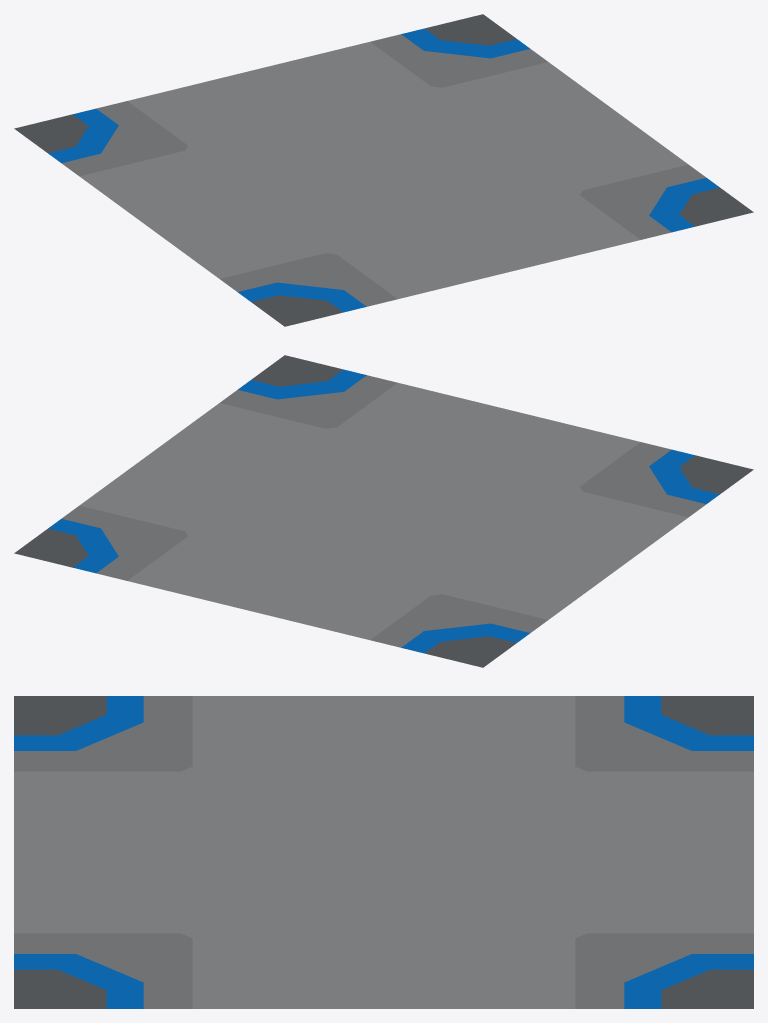
File: Ceiling_type_B_032.fbx
3 views of the same model, one above another, from view 1: azimuth 30°, elevation 25°; view 2: azimuth 150°, elevation 25°; view 3: azimuth 270°, elevation 25° (orthographic). The views are drawn at different scales.
Parts seen in each view (by area): view 1: Ceiling_type_B_032; view 2: Ceiling_type_B_032; view 3: Ceiling_type_B_032.
Part boxes in pixels (x1=…): Ceiling_type_B_032: x1=14, y1=14, x2=753, y2=326; Ceiling_type_B_032: x1=14, y1=355, x2=753, y2=667; Ceiling_type_B_032: x1=14, y1=696, x2=753, y2=1008.
Bounding box in the file's own units: 400 × 400 × 6.18.
